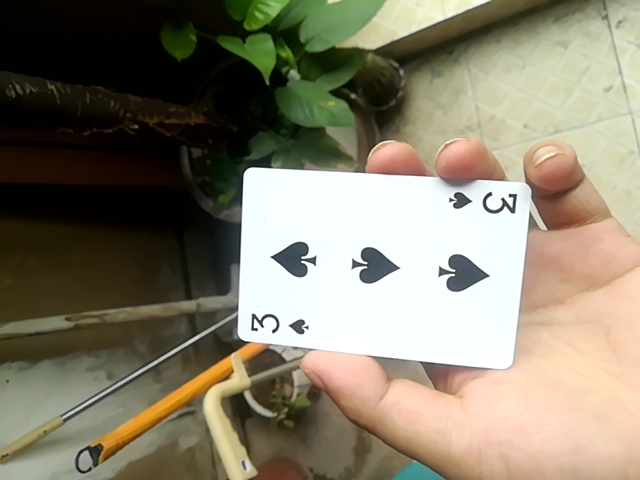ht 3: (229, 162, 533, 372)
